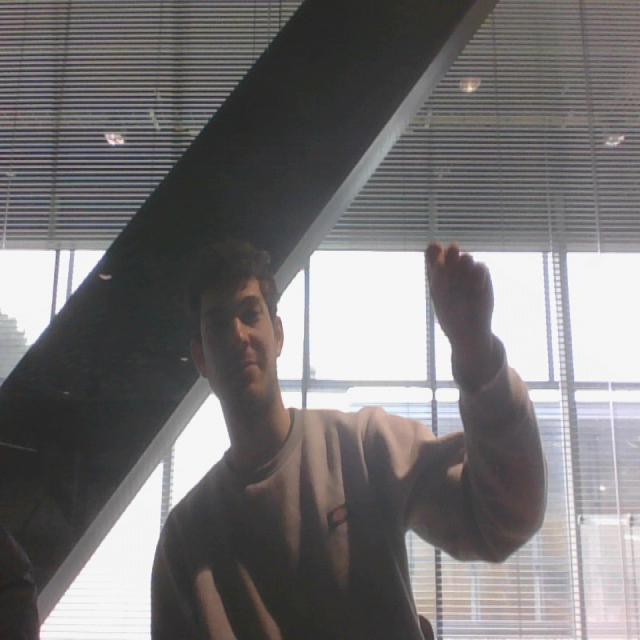stop: (421, 229, 500, 359)
